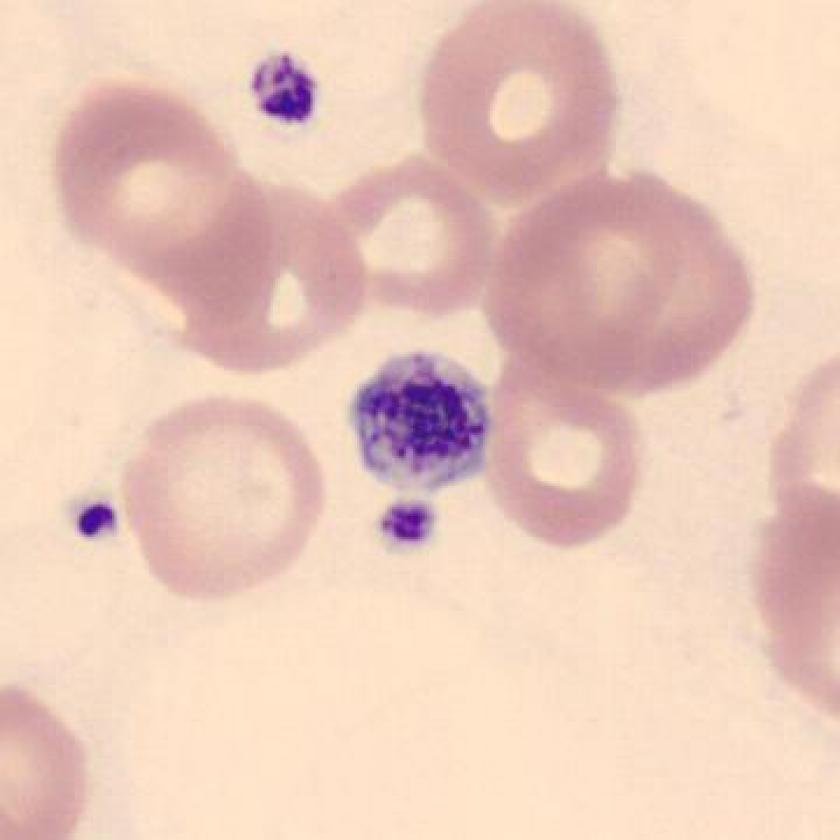platelets: (344, 351, 500, 499), (241, 47, 328, 147), (370, 480, 458, 554)
